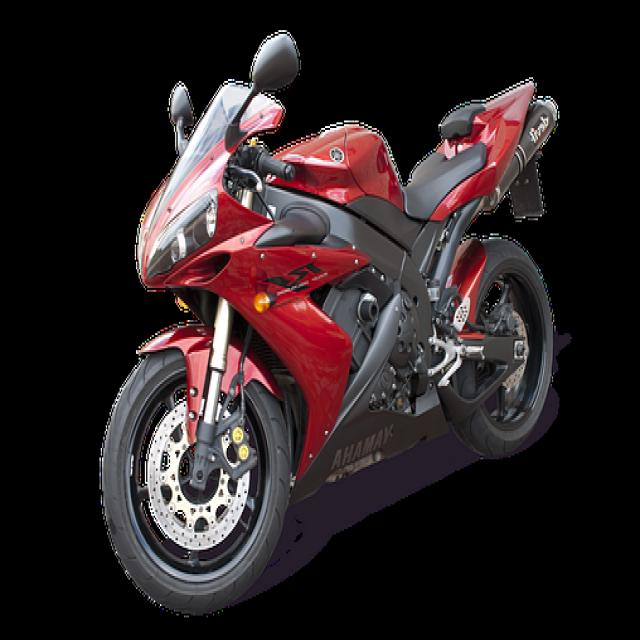bike: (100, 35, 560, 614)
